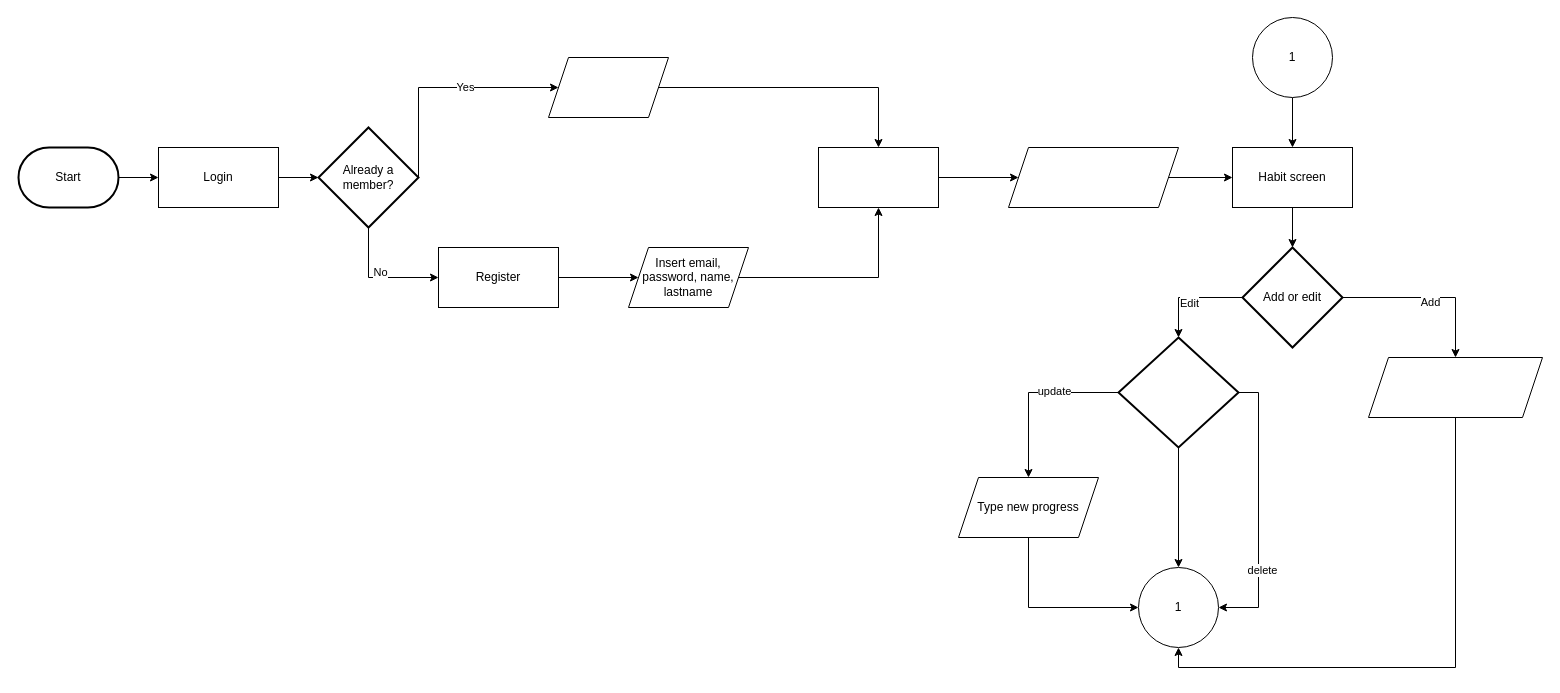
Image size: 1560x693. Some labels were removed from this diagram. Here are the shapes that lost their labels. From the top down, the centre of each, then its label:
(608,87): Credentials
(878,177): Home screen
(1093,177): Tap on habit type (daily, monthly, yearly) or show all
(1178,392): Update, delete or mark complete
(1455,387): Insert name, start value, end value, metric
